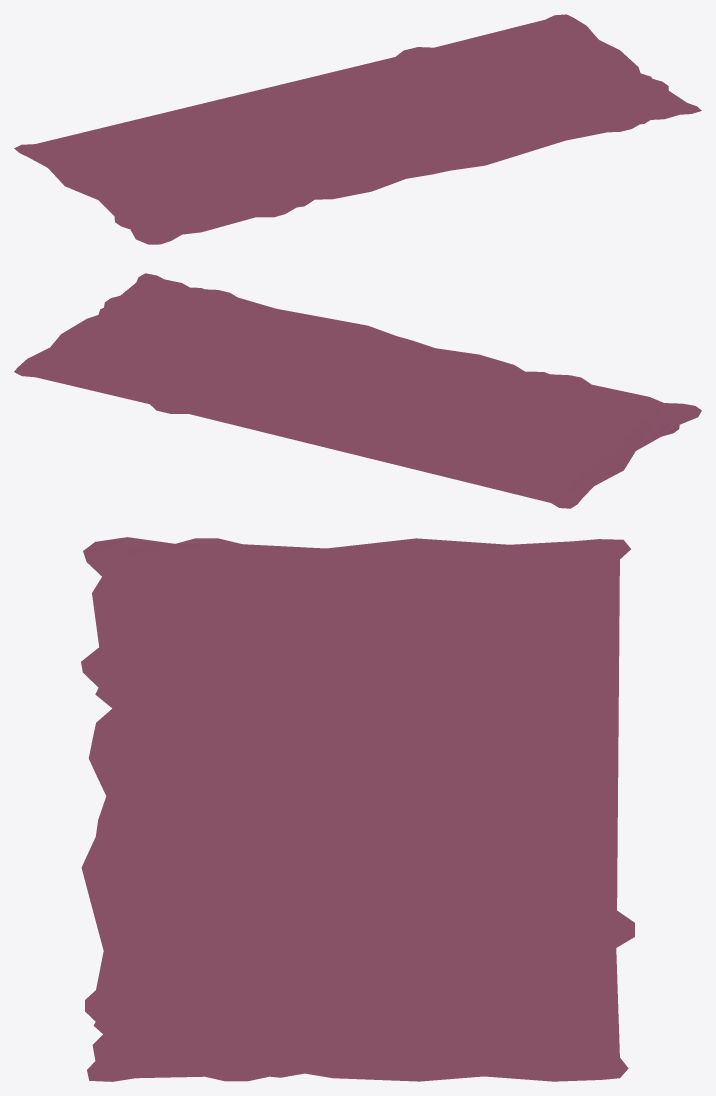
File: HolidayTableLongShadow.glb
3 renders of one model, top to bottom at view 1: azimuth 30°, elevation 25°; view 2: azimuth 150°, elevation 25°; view 3: azimuth 270°, elevation 25°, orthographic. The views are drawn at different scales.
Parts seen in each view (by area): view 1: HolidayTableLongShadow; view 2: HolidayTableLongShadow; view 3: HolidayTableLongShadow.
Boxes of the visible parts, box(x1,y1,x2,y2) form: HolidayTableLongShadow: box(14, 14, 701, 244); HolidayTableLongShadow: box(14, 273, 701, 508); HolidayTableLongShadow: box(81, 537, 634, 1081).
Size of the model in its own units: 4.91 by 0.00551 by 2.11.
